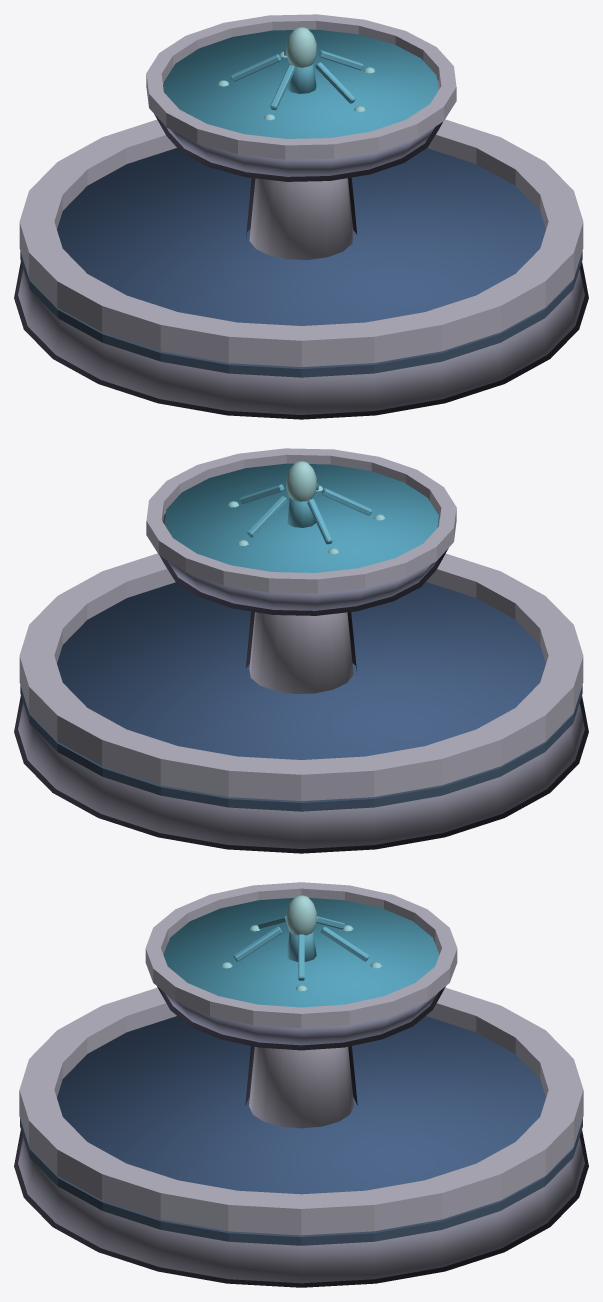
Rendered from fountain.glb.
The picture shows the model from 3 angles, top to bottom: view 1: azimuth 30°, elevation 25°; view 2: azimuth 150°, elevation 25°; view 3: azimuth 270°, elevation 25°; orthographic projection.
Parts seen in each view (by area): view 1: fountain, fountain_water; view 2: fountain, fountain_water; view 3: fountain, fountain_water.
Part boxes in pixels (x1,y1,x2,y2): fountain: [14, 14, 588, 419]; fountain_water: [217, 27, 374, 120]; fountain: [14, 448, 588, 853]; fountain_water: [227, 461, 385, 554]; fountain: [14, 882, 588, 1287]; fountain_water: [221, 895, 381, 991].
Bounding box in the file's own units: 3.96 × 2.05 × 3.96.
